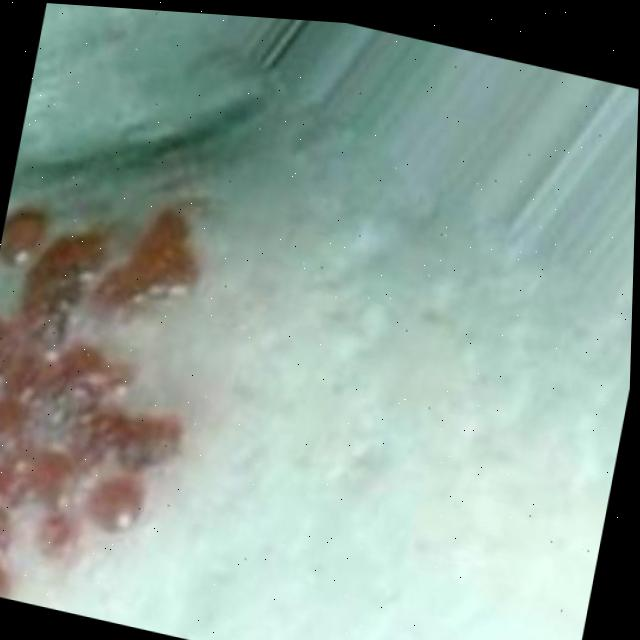Shingles: (0, 147, 231, 635)
